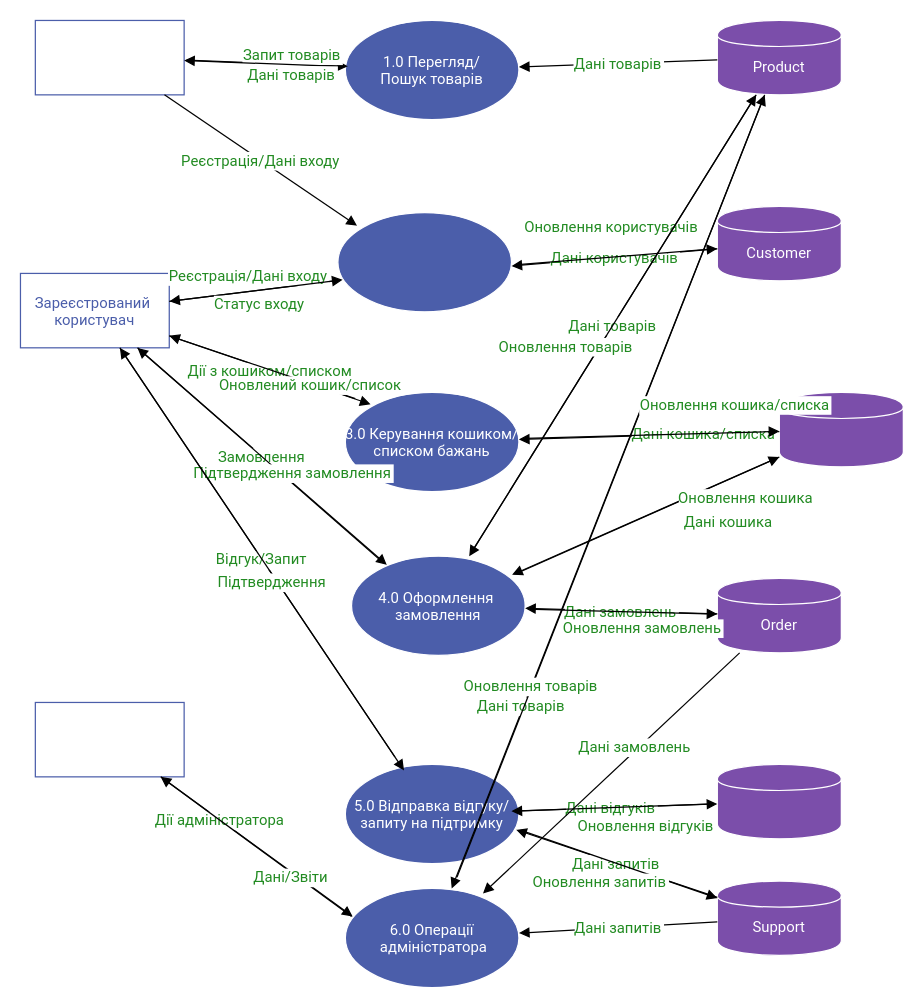
Some shapes in this 924 by 1008 pixel diagram are drawn without their labels. Each missing label, with the centre of its shape:
"2.0 Реєстрація/Вхід" goes at point (424, 261).
"Cart Wishlist" goes at point (840, 429).
"Reviews" goes at point (778, 801).
"Адміністратор" goes at point (109, 739).
"Незареєстрований користувач" goes at point (109, 57).
